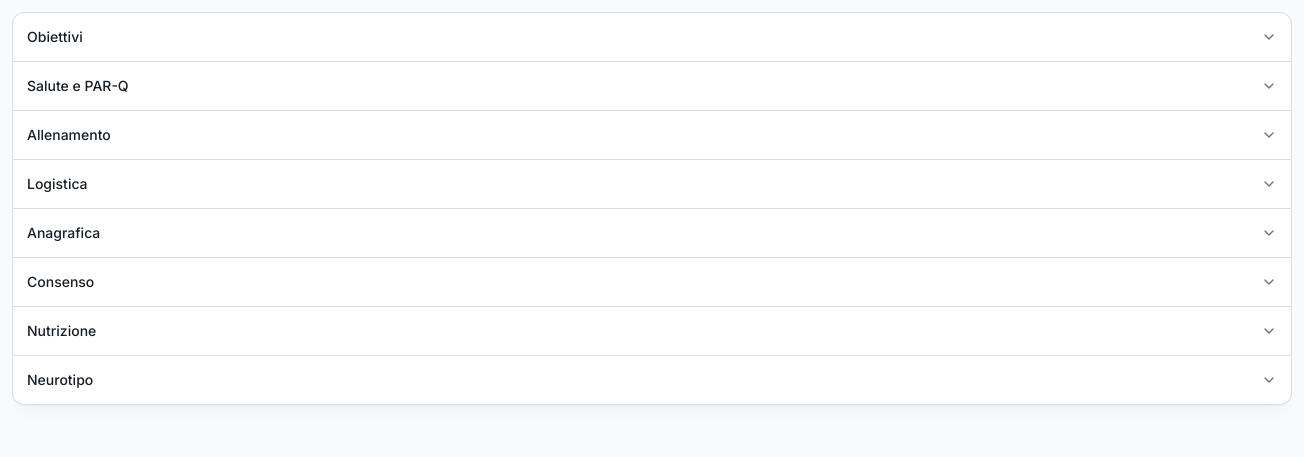
Test: linguetta Intervista — il gruppo Neurotipo dice QUALE dei quattro casi e › errore: dice che non e riuscito a leggere, e che NON e detto che manchi
Click the button "Neurotipo": click(60, 380) [13,356,1291,404]
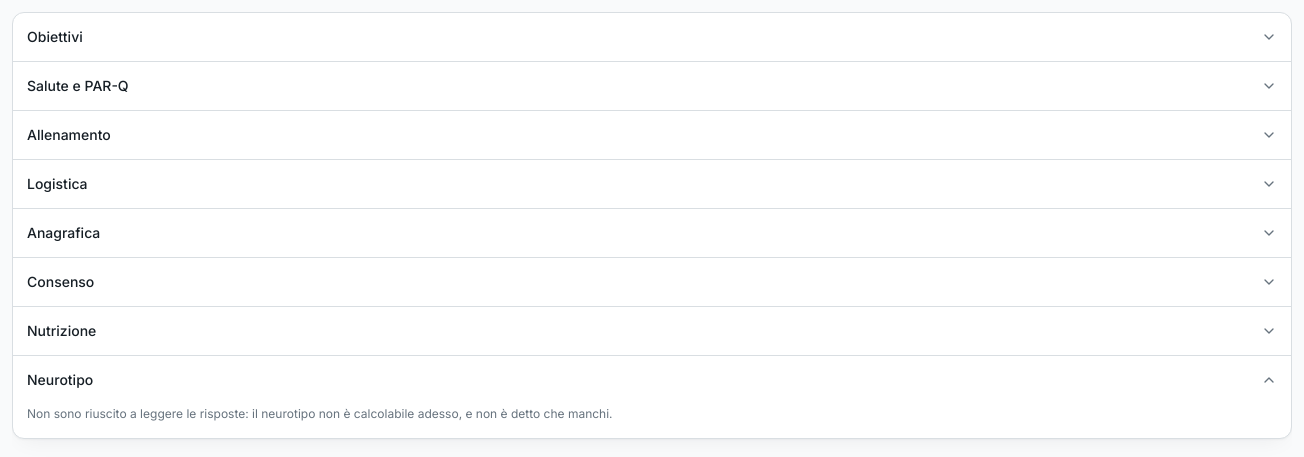
Check: the text "non è detto che manchi" is shown, box [27,406,613,421]
